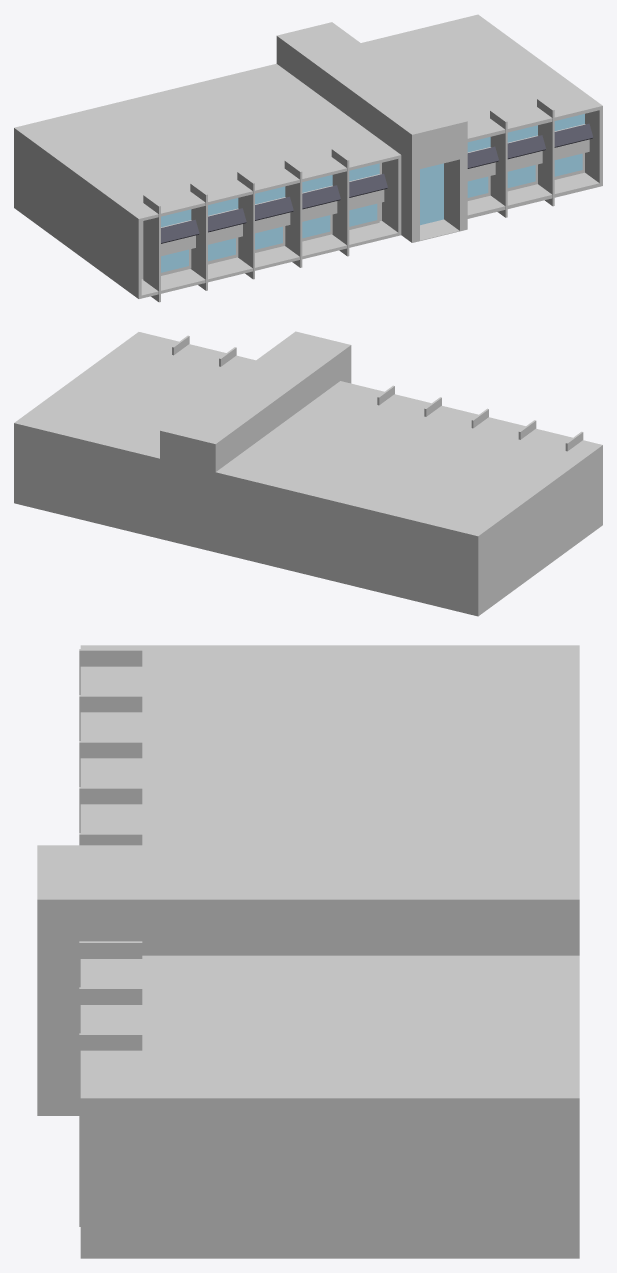
Rendered from EdificioPrincipa2l.fbx.
3 views of the same model, one above another, from view 1: azimuth 30°, elevation 25°; view 2: azimuth 150°, elevation 25°; view 3: azimuth 270°, elevation 25° (orthographic). The views are drawn at different scales.
Visible parts, largest first — view 1: Cube, Cube.005, Cube.008; view 2: Cube, Cube.005; view 3: Cube, Cube.005, Cube.008.
Boxes of the visible parts, <box> form: Cube: <box>14,14,602,298</box>; Cube.005: <box>143,148,387,302</box>; Cube.008: <box>467,98,593,217</box>; Cube: <box>14,331,602,616</box>; Cube.005: <box>377,385,583,451</box>; Cube: <box>37,645,579,1258</box>; Cube.005: <box>79,649,142,845</box>; Cube.008: <box>79,941,142,1226</box>.
Bounding box in the file's own units: 251 × 60 × 127.
